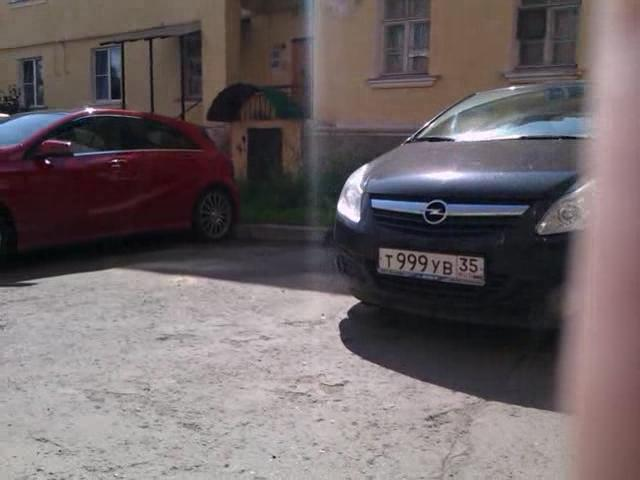car license plate: (375, 242, 487, 290)
